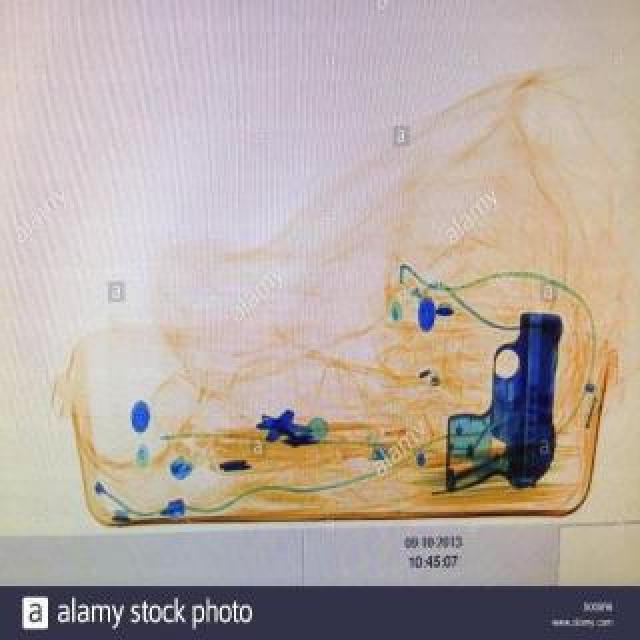gun: (444, 310, 564, 494)
